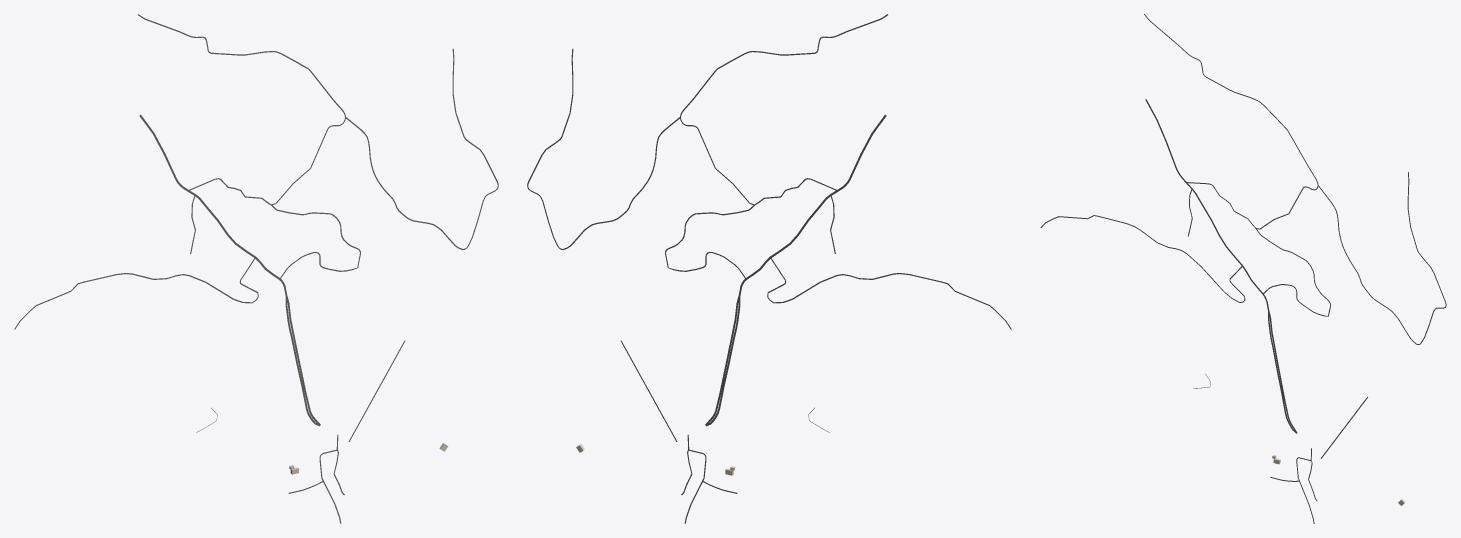
The model's file is historic-palestine-11_26_3529_3202.glb.
The picture shows the model from 3 angles, left to right: view 1: azimuth 30°, elevation 25°; view 2: azimuth 150°, elevation 25°; view 3: azimuth 330°, elevation 25°; orthographic projection. The views are drawn at different scales.
Parts seen in each view (by area): view 1: Road .002, Road .010, Road .012; view 2: Road .002, Road .010, Road .012; view 3: Road .002, Road .010.
Part boxes in pixels (x1=…): Road .002: x1=138, y1=14, x2=345, y2=205; Road .010: x1=346, y1=48, x2=498, y2=249; Road .012: x1=14, y1=258, x2=258, y2=329; Road .002: x1=680, y1=14, x2=887, y2=204; Road .010: x1=527, y1=48, x2=679, y2=249; Road .012: x1=767, y1=257, x2=1011, y2=329; Road .002: x1=1144, y1=14, x2=1318, y2=229; Road .010: x1=1318, y1=172, x2=1446, y2=344.
Size of the model in its own units: 1361 by 1500 by 8.7.
